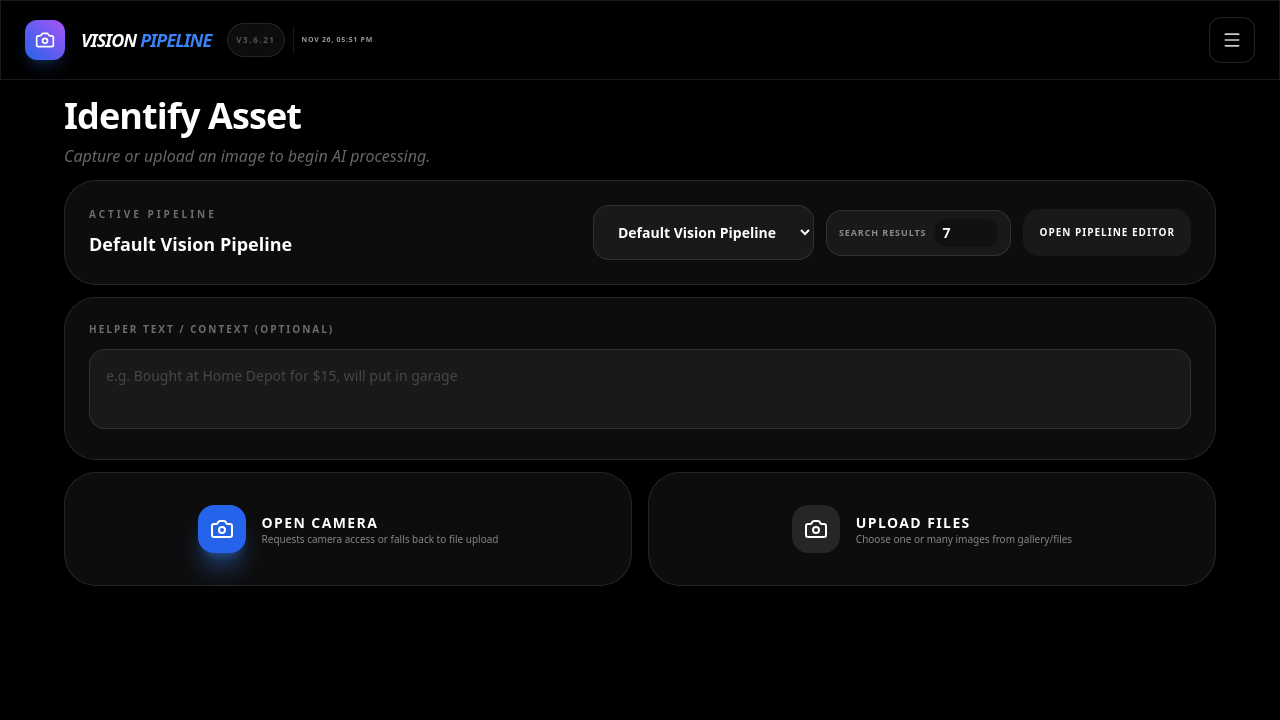
Test: Vision Pipeline App › Feature: review-navigation | fetches and displays the queue
Click the button named "open menu". click: (1232, 40)
box: [1209,17,1255,63]
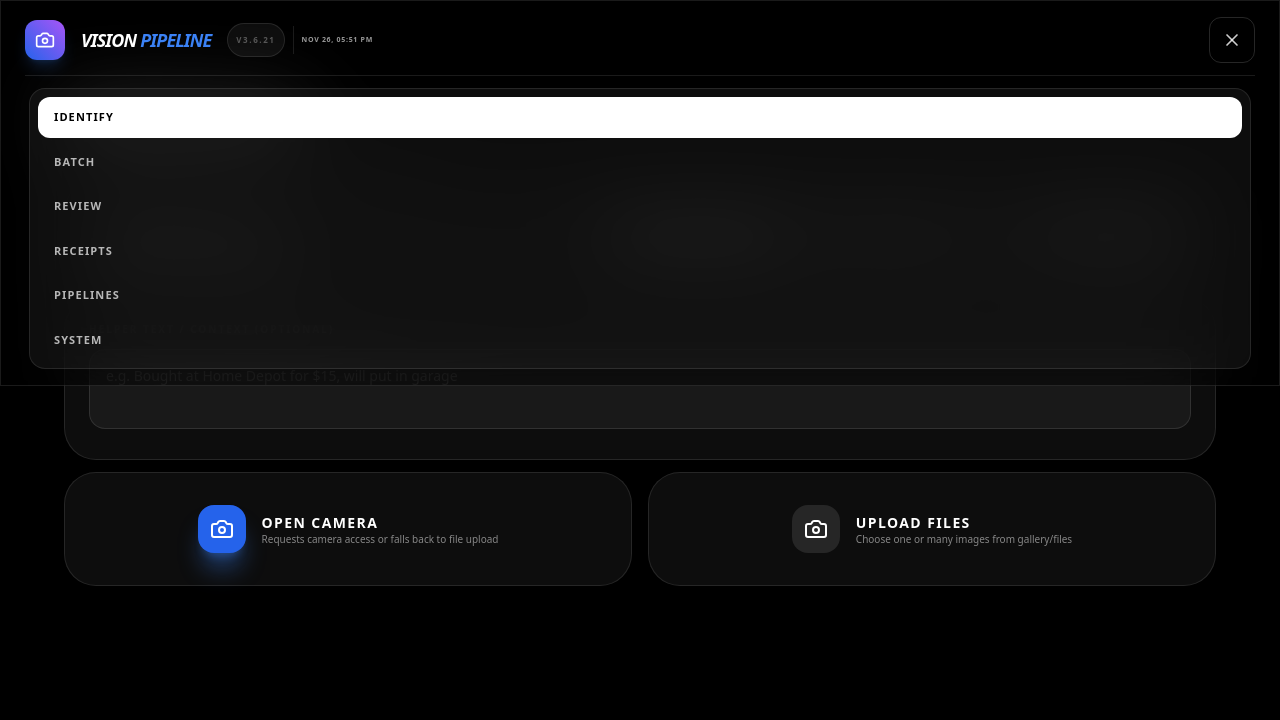
Click the button "review". click: (78, 206)
box: [38,186,1242,226]
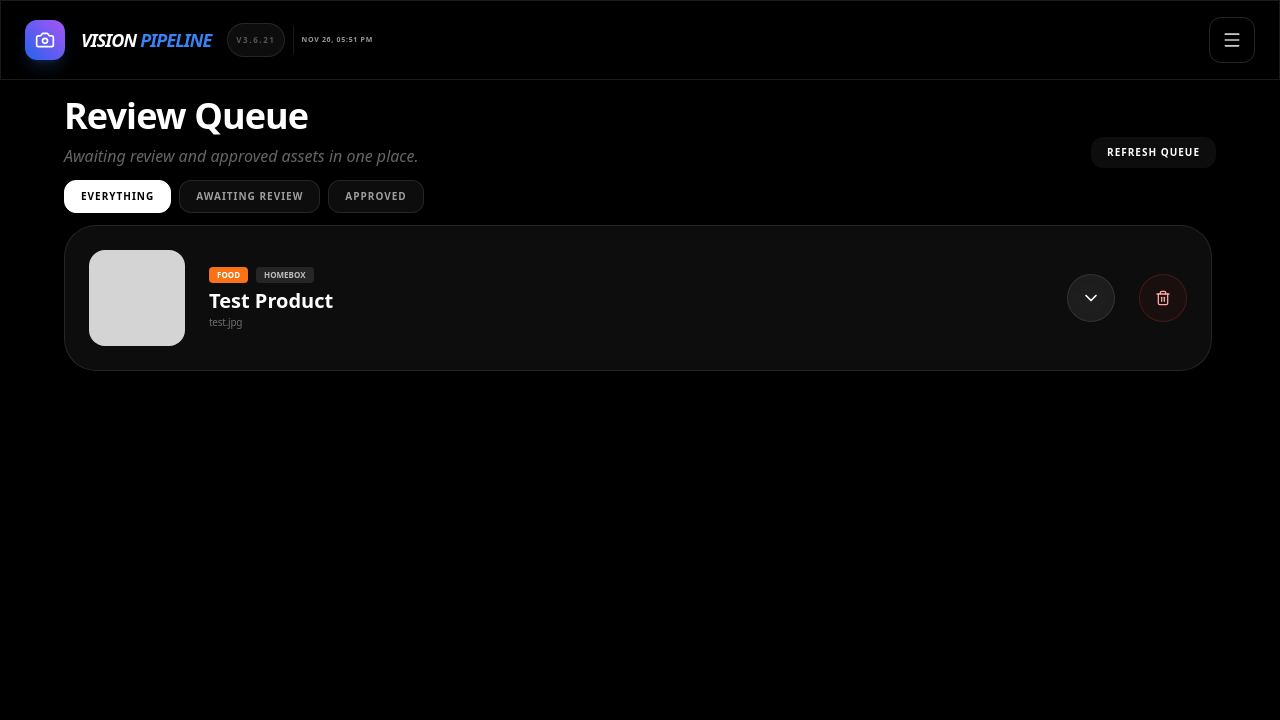
Expected: the heading "Review Queue" is shown, [64,91,308,140]
